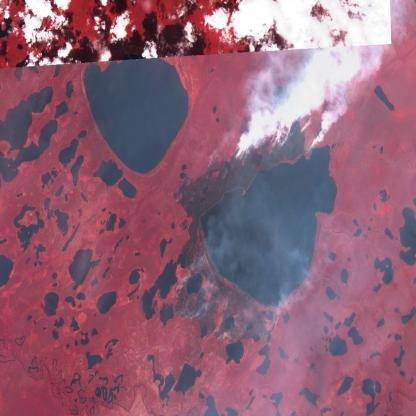fire: (176, 107, 322, 209), (171, 254, 275, 337)
